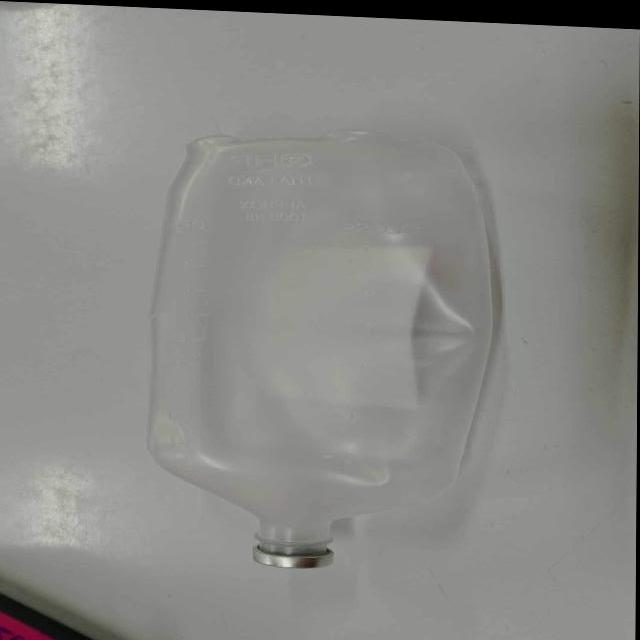Infectious: (144, 128, 497, 567)
